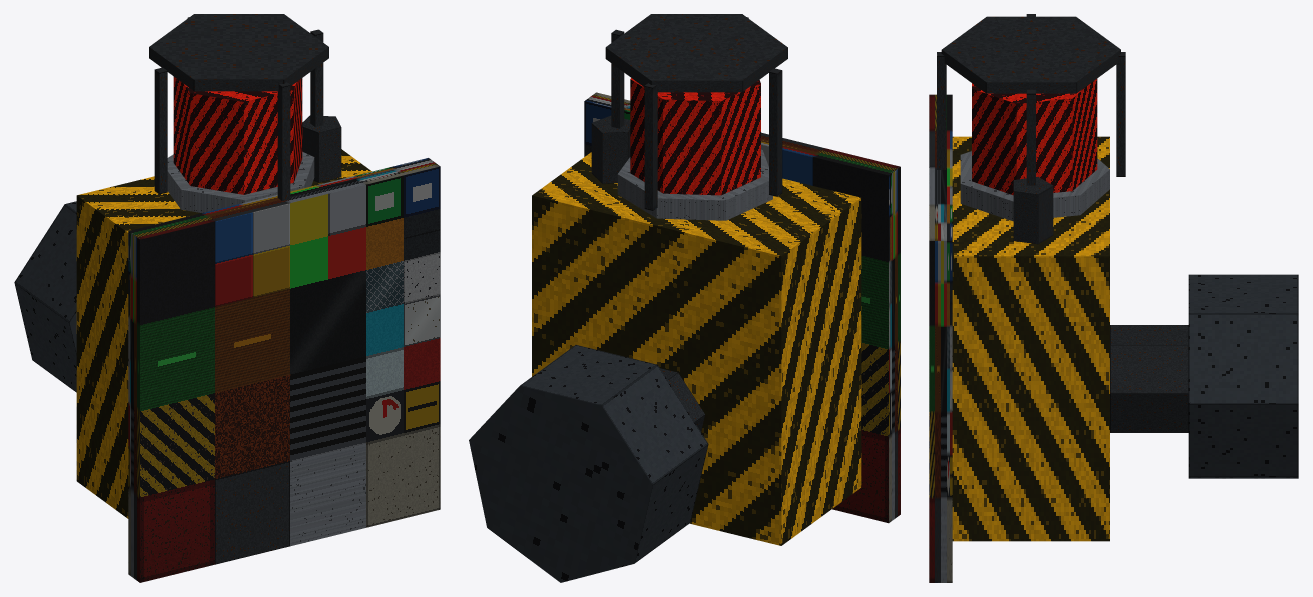
File: alarm_siren.glb
3 renders of one model, left to right at view 1: azimuth 30°, elevation 25°; view 2: azimuth 150°, elevation 25°; view 3: azimuth 270°, elevation 25°, orthographic.
Visible parts, largest first — view 1: alarm_siren; view 2: alarm_siren; view 3: alarm_siren.
Part boxes in pixels (box(x1,y1,x2,y2)): alarm_siren: box(14, 14, 440, 582); alarm_siren: box(469, 14, 900, 582); alarm_siren: box(929, 14, 1298, 582).
Bounding box in the file's own units: 0.22 × 0.323 × 0.235.
1 material, 1 textured.
